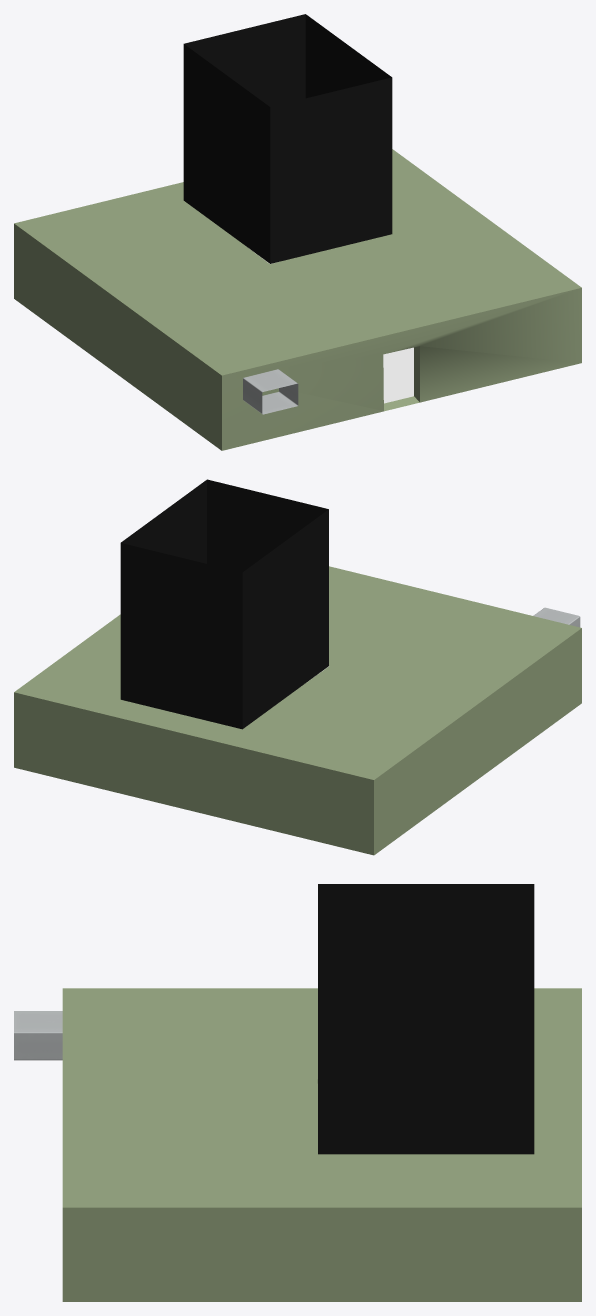
File: newbasement.glb
The picture shows the model from 3 angles, top to bottom: view 1: azimuth 30°, elevation 25°; view 2: azimuth 150°, elevation 25°; view 3: azimuth 270°, elevation 25°; orthographic projection. The views are drawn at different scales.
Visible parts, largest first — view 1: Cube.017-col, darkness_simulator-col, defaultMaterial.014; view 2: Cube.017-col, darkness_simulator-col, defaultMaterial.014; view 3: Cube.017-col, darkness_simulator-col, defaultMaterial.014.
Part boxes in pixels (left/top/right/bottom): Cube.017-col: left=14, top=149, right=581, bottom=450; darkness_simulator-col: left=183, top=14, right=392, bottom=263; defaultMaterial.014: left=243, top=369, right=298, bottom=414; Cube.017-col: left=14, top=566, right=581, bottom=855; darkness_simulator-col: left=120, top=479, right=328, bottom=729; defaultMaterial.014: left=533, top=607, right=580, bottom=627; Cube.017-col: left=62, top=988, right=581, bottom=1301; darkness_simulator-col: left=318, top=884, right=534, bottom=1154; defaultMaterial.014: left=14, top=1011, right=62, bottom=1060.
Bounding box in the file's own units: 20 × 12.32 × 21.87.
6 materials, 3 textured.
